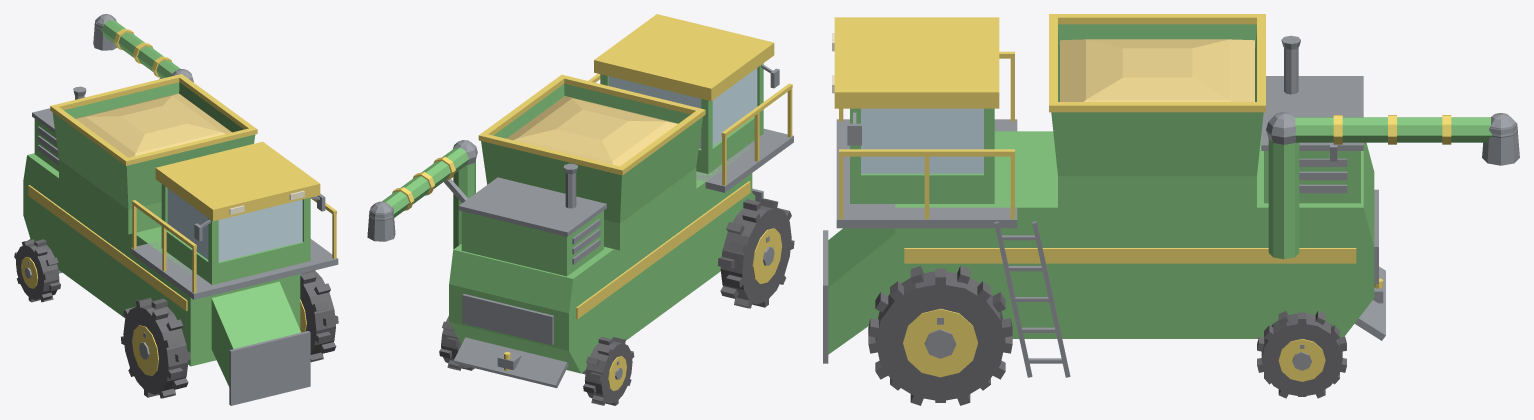
File: combine.glb
3 renders of one model, left to right at view 1: azimuth 30°, elevation 25°; view 2: azimuth 150°, elevation 25°; view 3: azimuth 270°, elevation 25°, orthographic. The views are drawn at different scales.
Parts seen in each view (by area): view 1: hull, cab_roof, tank, grain, cab_glass, feeder, feeder_plate, tank_lip, deck, cab_base, tyre_FR, tank_base (+17 smaller); view 2: hull, tank, cab_roof, grain, engine, engine_cap, tank_lip, tyre_FR, cab_glass, spreader, spreader_hood, tank_base (+19 smaller); view 3: hull, tank, cab_roof, grain, tyre_FL, cab_glass, tank_base, stripe_L, feeder, tank_lip, deck, engine_cap (+23 smaller).
Part boxes in pixels (box(x1,y1,x2,y2)): hull: box(23, 153, 300, 366); cab_roof: box(155, 141, 320, 221); tank: box(52, 82, 255, 209); grain: box(75, 93, 231, 157); cab_glass: box(167, 188, 302, 261); feeder: box(211, 281, 300, 386); feeder_plate: box(229, 331, 310, 405); tank_lip: box(50, 74, 257, 165); deck: box(130, 239, 338, 299); cab_base: box(161, 228, 310, 284); tyre_FR: box(123, 304, 188, 394); tank_base: box(59, 159, 161, 234); hull: box(449, 147, 752, 373); tank: box(481, 83, 702, 223); cab_roof: box(594, 14, 774, 101); grain: box(506, 96, 677, 166); engine: box(461, 210, 603, 276); engine_cap: box(458, 177, 606, 236); tank_lip: box(478, 74, 705, 175); tyre_FR: box(720, 205, 791, 304); cab_glass: box(609, 68, 757, 148); spreader: box(462, 294, 553, 344); spreader_hood: box(454, 337, 568, 388); tank_base: box(604, 168, 696, 250); hull: box(895, 131, 1374, 338); tank: box(1051, 24, 1263, 176); cab_roof: box(834, 17, 999, 108); grain: box(1060, 39, 1254, 101); tyre_FL: box(875, 271, 1005, 401); cab_glass: box(861, 108, 983, 173); tank_base: box(1058, 176, 1256, 211); stripe_L: box(904, 248, 1356, 263); feeder: box(828, 228, 895, 354); tank_lip: box(1049, 14, 1265, 112); deck: box(836, 119, 1017, 228); engine_cap: box(1261, 76, 1363, 150).
Bounding box in the file's own units: 3.15 × 3.6 × 7.71.
